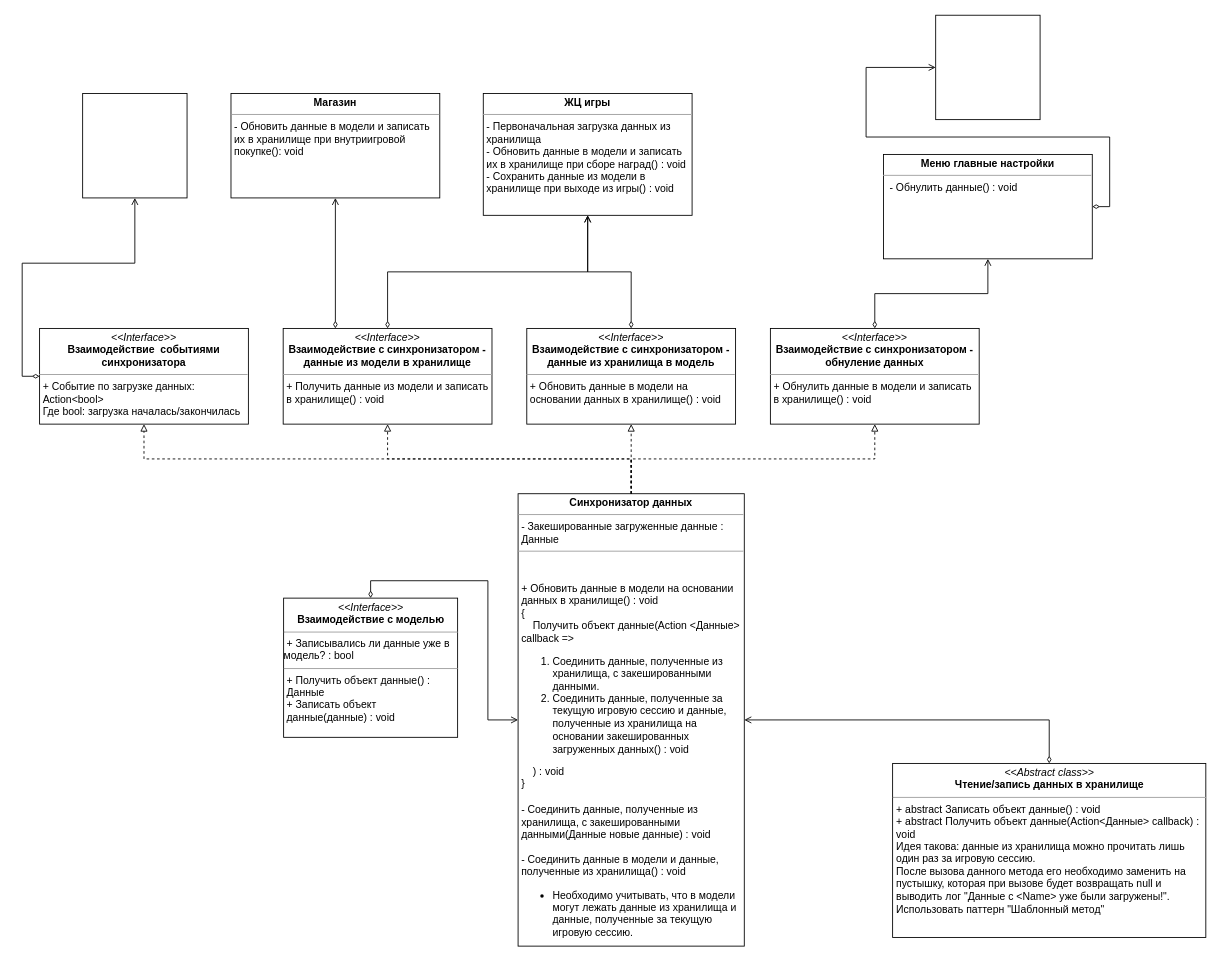
Some shapes in this 1221 by 968 pixel diagram are drawn without their labels. Each missing label, with the centre of its shape:
"Меню главные настройки View UI" goes at point (987, 67).
"Отображение загрузки данных View UI" goes at point (134, 145).
